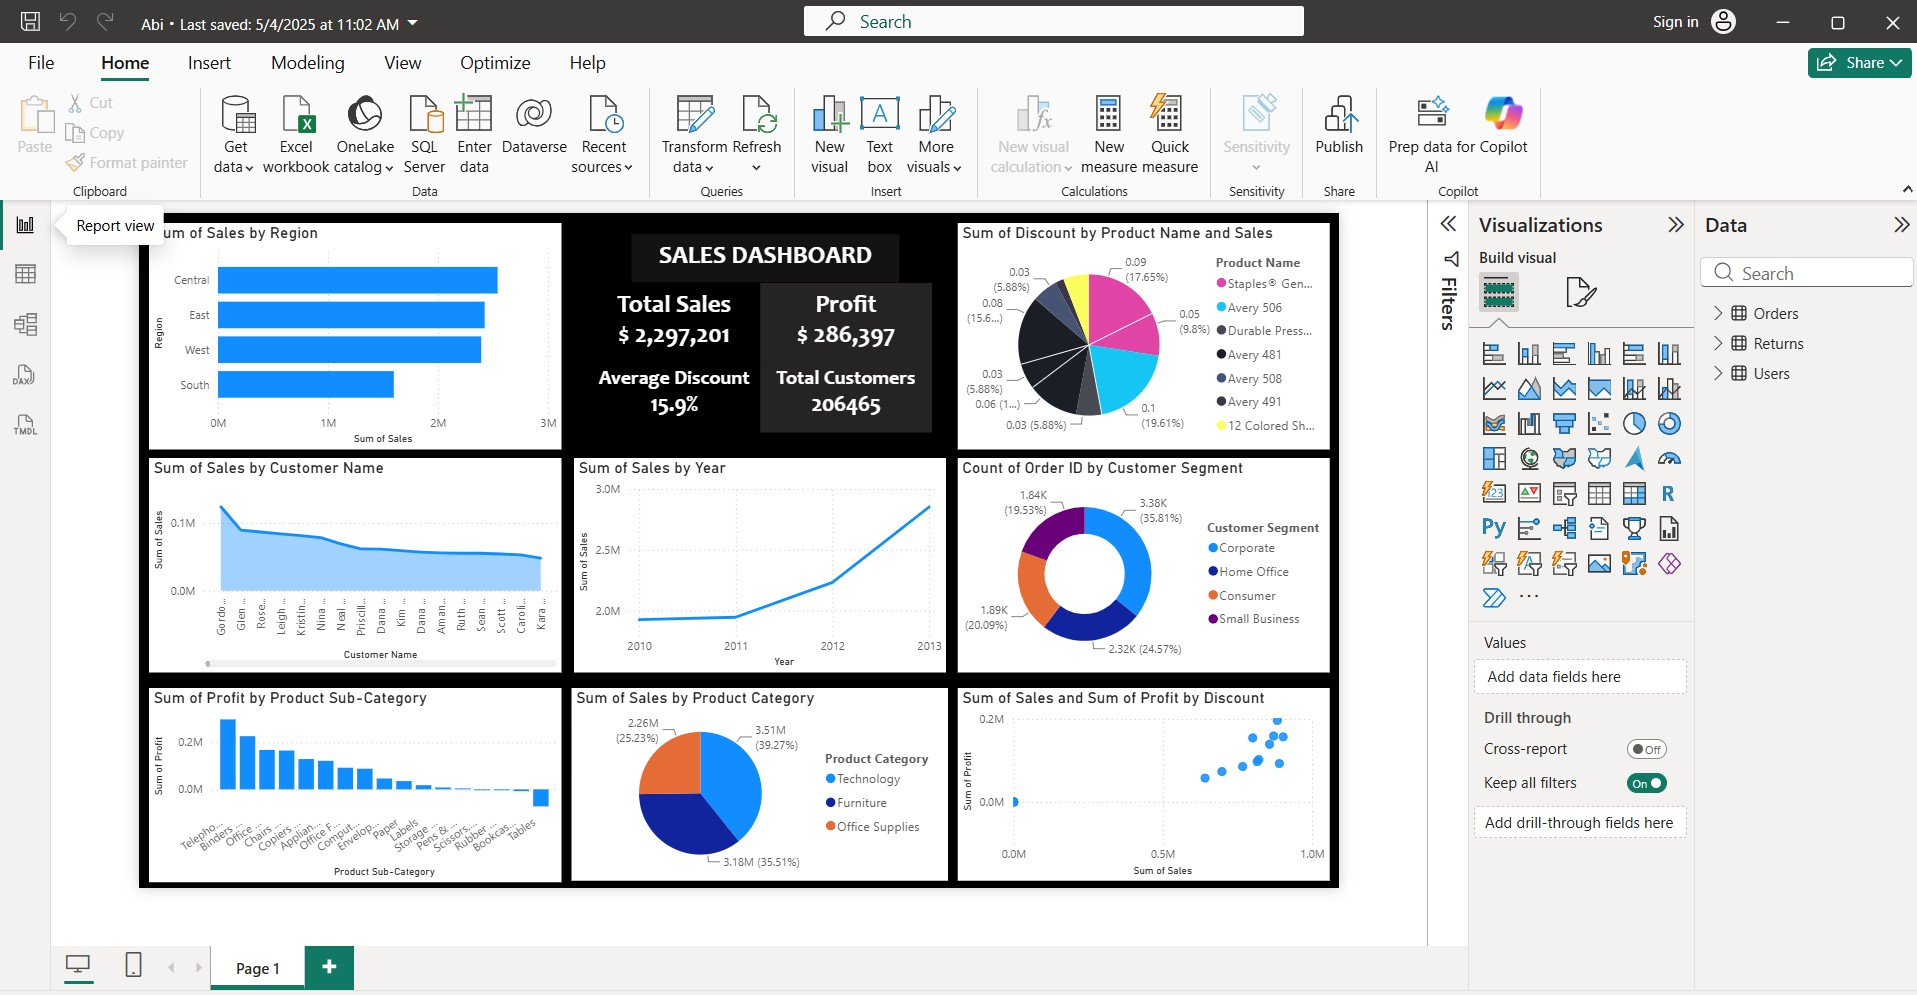

What the dashboard file says about the page in this screenshot:
{"tool":"powerbi","page":{"name":"Page 1","canvas":[1280,720],"ordinal":0},"visuals":[{"type":"barChart","fields":{"Y":["Sum(Orders.Sales)"],"Category":["Orders.Region"]},"box":[10,10,440,241.4],"z":0},{"type":"columnChart","fields":{"Category":["Orders.Product Sub-Category"],"Y":["Sum(Orders.Profit)"]},"box":[10,507.1,440,207.1],"z":1000},{"type":"lineChart","fields":{"Category":["Orders.Order Date.Variation.Date Hierarchy.Year","Orders.Order Date.Variation.Date Hierarchy.Quarter","Orders.Order Date.Variation.Date Hierarchy.Month","Orders.Order Date.Variation.Date Hierarchy.Day"],"Y":["Sum(Orders.Sales)"]},"box":[464.3,261.4,397.1,228.6],"z":2000},{"type":"pieChart","fields":{"Category":["Orders.Product Category"],"Y":["Sum(Orders.Sales)"]},"box":[461.4,507.1,401.4,205.7],"z":3000},{"type":"donutChart","fields":{"Category":["Orders.Customer Segment"],"Y":["CountNonNull(Orders.Order ID)"]},"box":[872.9,261.4,397.1,228.6],"z":4000},{"type":"scatterChart","fields":{"Category":["Orders.Discount"],"X":["Sum(Orders.Sales)"],"Y":["Sum(Orders.Profit)"]},"box":[872.9,507.1,397.1,205.7],"z":5000},{"type":"stackedAreaChart","fields":{"Y":["Sum(Orders.Sales)"],"Category":["Orders.Customer Name"]},"box":[10,261.4,440,228.6],"z":6000},{"type":"pieChart","fields":{"Category":["Orders.Product Name"],"Series":["Orders.Sales"],"Y":["Sum(Orders.Discount)"]},"box":[872.9,10,397.1,241.4],"z":7000},{"type":"textbox","box":[525.7,22.9,285.7,51.4],"z":8000},{"type":"textbox","box":[478.6,74.3,184.3,82.9],"z":9000},{"type":"textbox","box":[662.9,74.3,182.9,82.9],"z":10000},{"type":"textbox","box":[478.6,157.1,184.3,77.1],"z":11000},{"type":"textbox","box":[662.9,157.1,182.9,77.1],"z":12000}]}

Visuals, with their boxes on the page's 1280x720 design canvas (x1, y1, x2, y2). These are canvas units, not pixel positions in the 1917x995 screenshot, which may show the page scaled, cropped or inside an application window:
barChart - Sum(Orders.Sales) x Orders.Region: <box>10,10,450,251</box>
columnChart - Orders.Product Sub-Category x Sum(Orders.Profit): <box>10,507,450,714</box>
lineChart - Orders.Order Date.Variation.Date Hierarchy.Year x Orders.Order Date.Variation.Date Hierarchy.Quarter: <box>464,261,861,490</box>
pieChart - Orders.Product Category x Sum(Orders.Sales): <box>461,507,863,713</box>
donutChart - Orders.Customer Segment x CountNonNull(Orders.Order ID): <box>873,261,1270,490</box>
scatterChart - Orders.Discount x Sum(Orders.Sales): <box>873,507,1270,713</box>
stackedAreaChart - Sum(Orders.Sales) x Orders.Customer Name: <box>10,261,450,490</box>
pieChart - Orders.Product Name x Orders.Sales: <box>873,10,1270,251</box>
textbox: <box>526,23,811,74</box>
textbox: <box>479,74,663,157</box>
textbox: <box>663,74,846,157</box>
textbox: <box>479,157,663,234</box>
textbox: <box>663,157,846,234</box>
